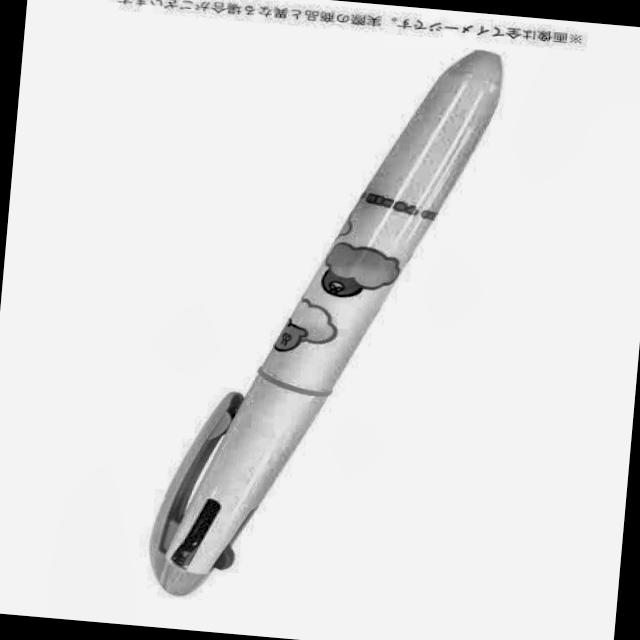Pen: (136, 14, 521, 639)
